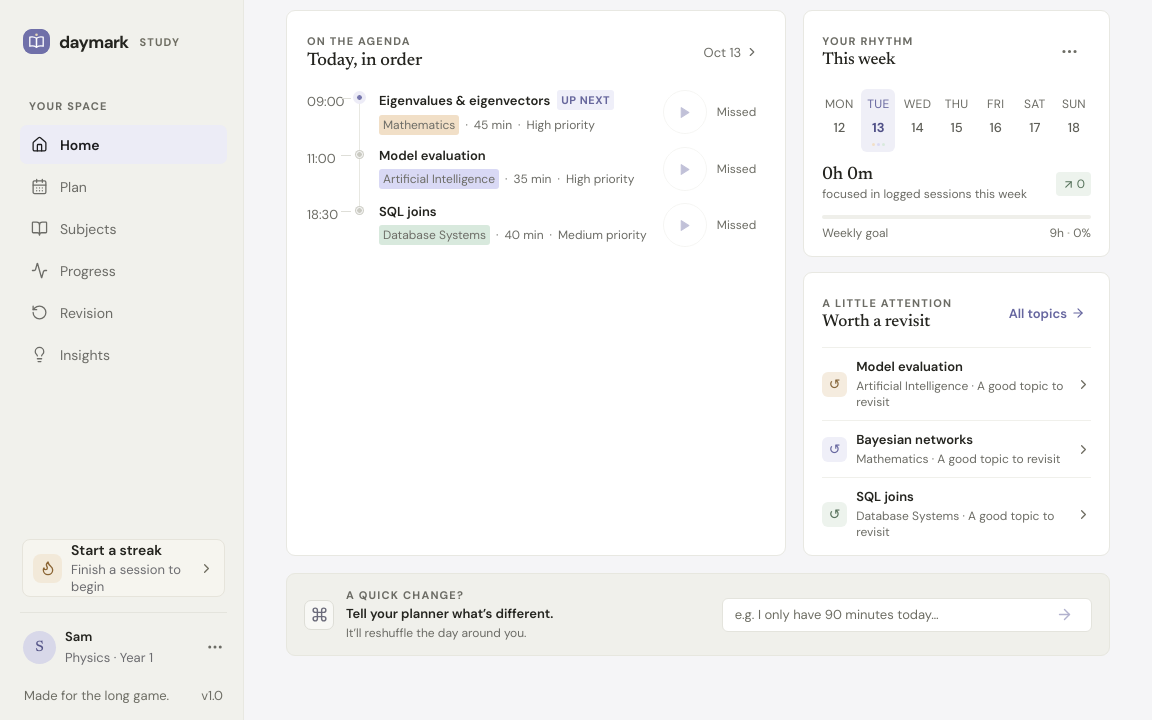
Test: Quick change › leaves the plan alone when the change is declined
(page scrolled)
Type "I only have 60 minutes today" into the field named "tell your planner".
click(887, 615); type("I only have 60 minutes today")  # box [733,605,1042,624]
Then press Enter
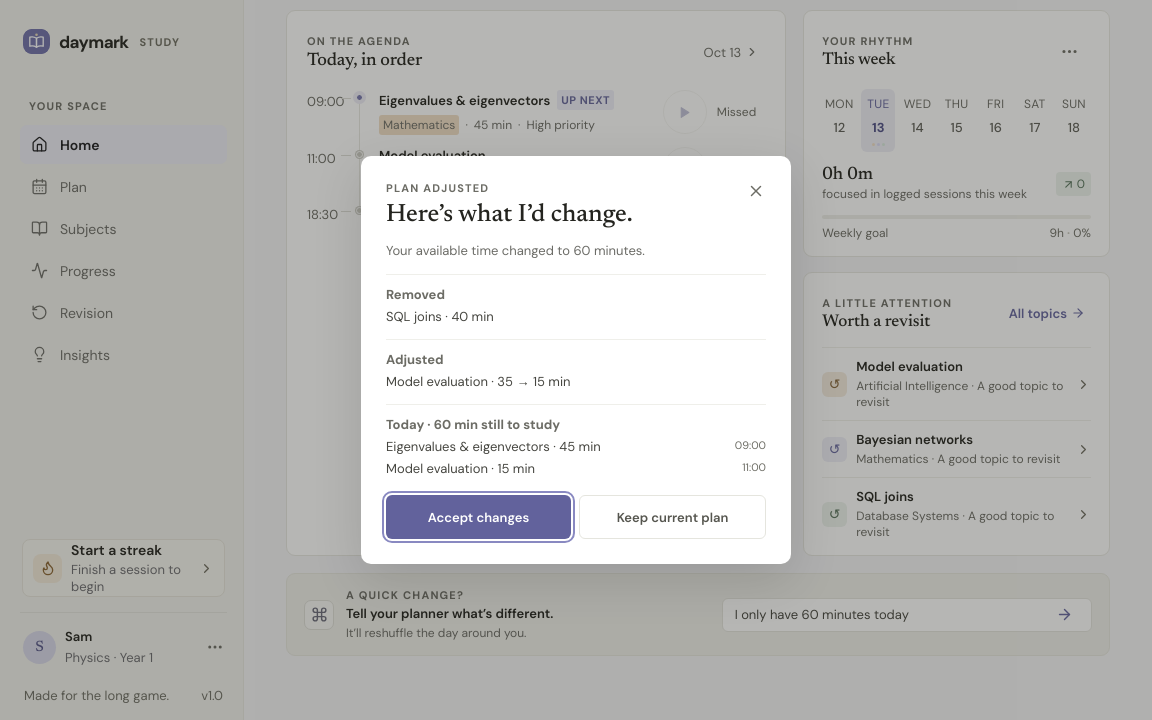
Click the button "Keep current plan".
click(672, 517)  # box [579,495,766,539]
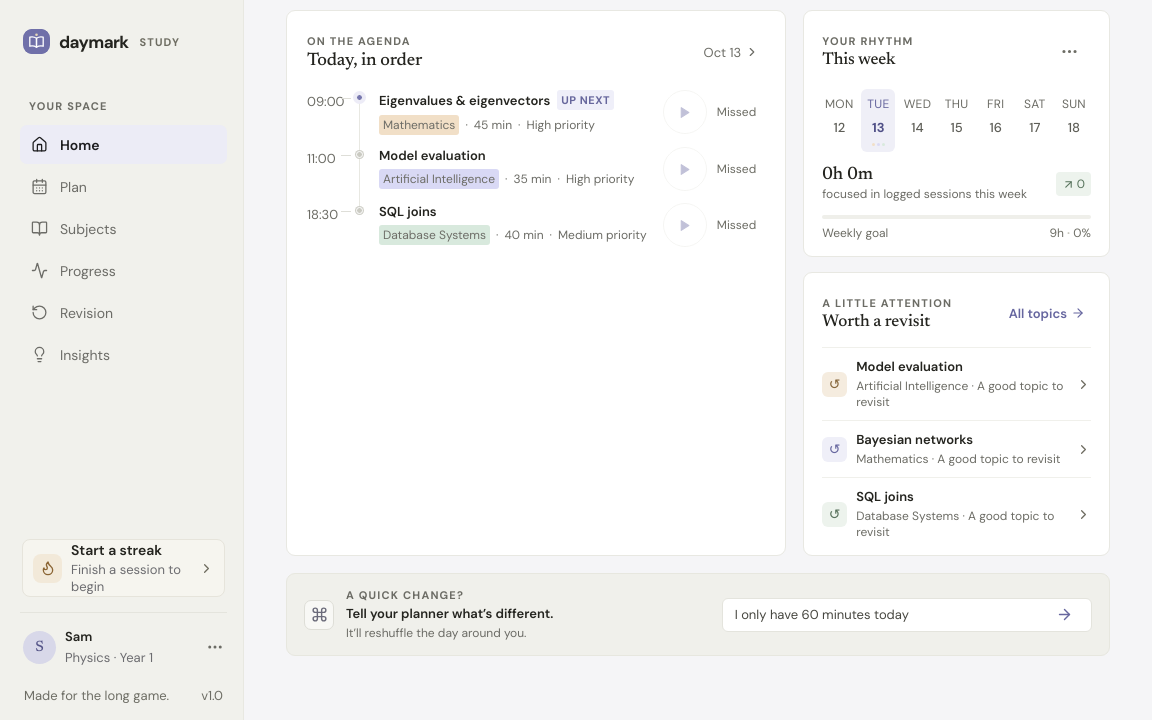
Result: the dialog is gone
